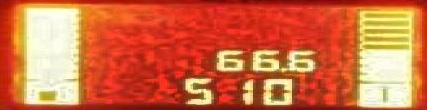-: (276, 65, 286, 72)
0: (258, 76, 292, 106)
1: (237, 77, 252, 105)
5: (177, 76, 214, 105)
6: (284, 48, 315, 71), (211, 48, 242, 71), (248, 48, 279, 71)
